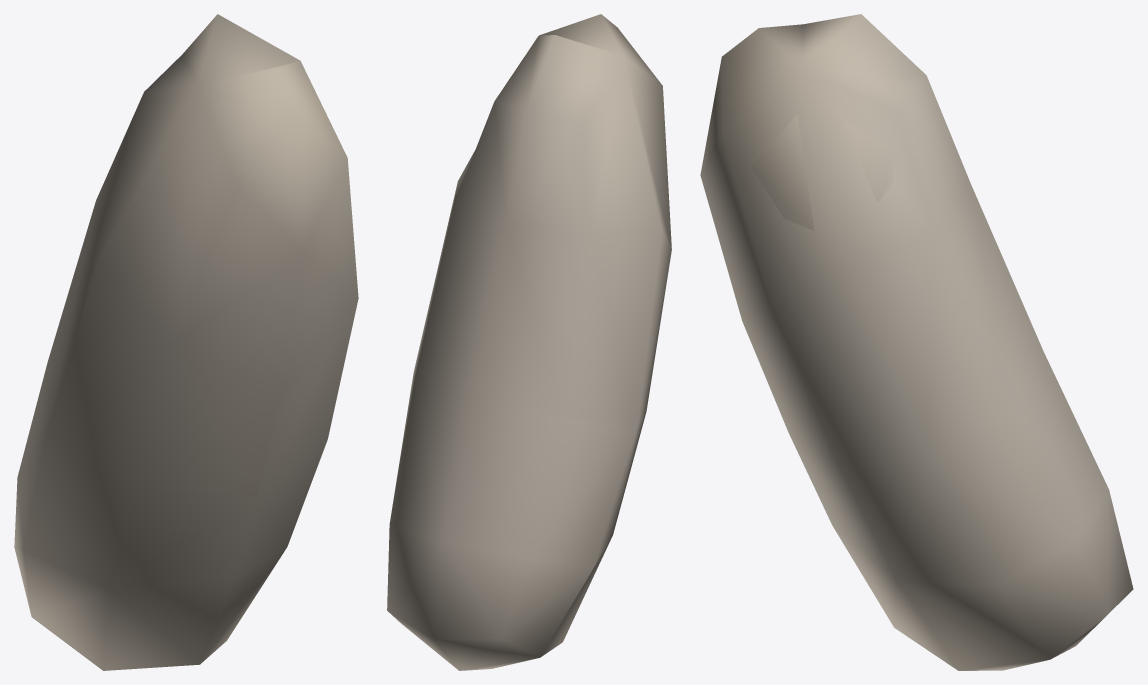
Rendered from vertebrae caudales 18.fbx.
The picture shows the model from 3 angles, left to right: view 1: azimuth 30°, elevation 25°; view 2: azimuth 150°, elevation 25°; view 3: azimuth 270°, elevation 25°; orthographic projection. The views are drawn at different scales.
Visible parts, largest first — view 1: vertebrae caudales 18; view 2: vertebrae caudales 18; view 3: vertebrae caudales 18, vertebrae caudales 18 low.
Boxes of the visible parts, x1,y1,x2,y2 form: vertebrae caudales 18: (14, 14, 358, 670); vertebrae caudales 18: (387, 14, 671, 670); vertebrae caudales 18: (700, 14, 1133, 670); vertebrae caudales 18 low: (751, 114, 893, 230).
Size of the model in its own units: 0.2918 by 0.7329 by 0.4382.
1 material, 1 textured.
